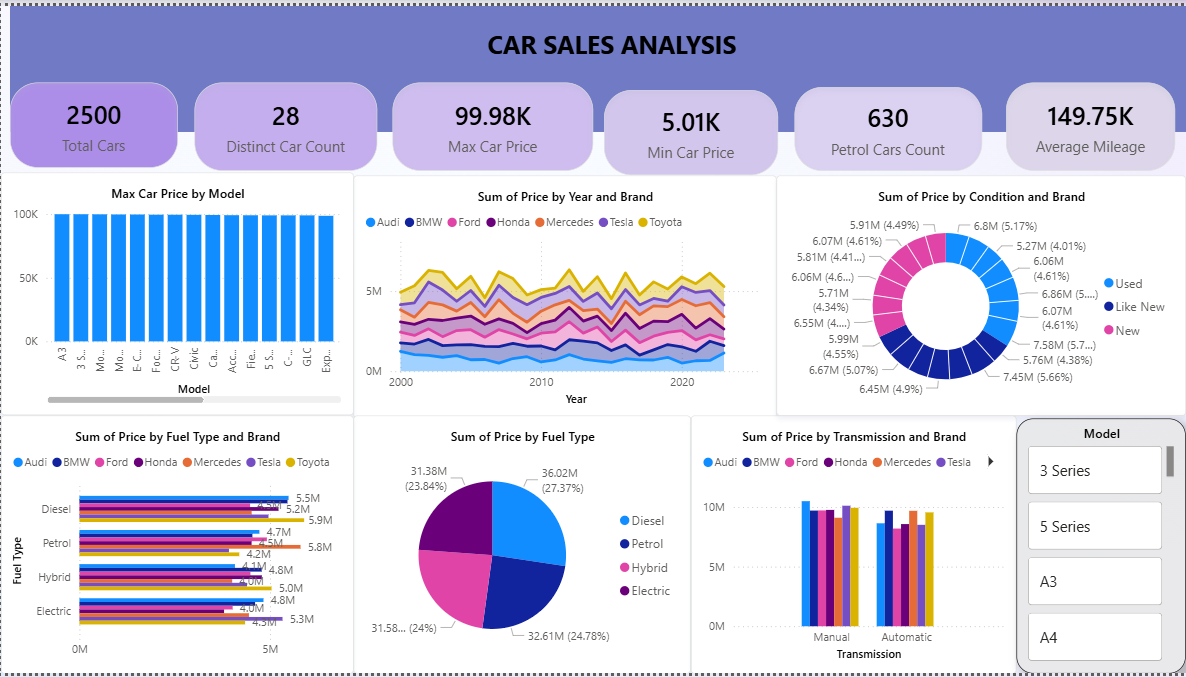

Layout of this report page (visuals, bound fields, positions):
{"tool":"powerbi","page":{"name":"Page 8","canvas":[1280,720],"ordinal":7},"visuals":[{"type":"textbox","box":[9.4,0,1269.9,136.1],"z":0},{"type":"card","fields":{"Values":["car_price_prediction_.Total Cars"]},"box":[9.7,82.6,181.4,92.3],"z":1000},{"type":"card","fields":{"Values":["car_price_prediction_.Distinct Car Count"]},"box":[208.9,82.6,197.5,95.5],"z":2000},{"type":"card","fields":{"Values":["car_price_prediction_.Max Car Price"]},"box":[422.6,82.6,217,95.5],"z":3000},{"type":"card","fields":{"Values":["car_price_prediction_.MIN Car Price"]},"box":[650.9,90.7,187.8,92.3],"z":4000},{"type":"card","fields":{"Values":["car_price_prediction_.Average Mileage"]},"box":[1084.9,82.6,183,95.5],"z":5000},{"type":"stackedAreaChart","fields":{"Category":["car_price_prediction_.Year"],"Series":["car_price_prediction_.Brand"],"Y":["Sum(car_price_prediction_.Price)"]},"box":[380.5,183,456.6,262.3],"z":6000},{"type":"pieChart","fields":{"Category":["car_price_prediction_.Fuel Type"],"Y":["Sum(car_price_prediction_.Price)"]},"box":[380.5,442,364.3,278.5],"z":7000},{"type":"clusteredColumnChart","fields":{"Category":["car_price_prediction_.Model"],"Y":["car_price_prediction_.Max Car Price"]},"box":[0,179.7,380.5,262.3],"z":8000},{"type":"clusteredBarChart","fields":{"Category":["car_price_prediction_.Fuel Type"],"Series":["car_price_prediction_.Brand"],"Y":["Sum(car_price_prediction_.Price)"]},"box":[0,442,380.5,278.5],"z":9000},{"type":"clusteredColumnChart","fields":{"Y":["Sum(car_price_prediction_.Price)"],"Category":["car_price_prediction_.Transmission"],"Series":["car_price_prediction_.Brand"]},"box":[744.8,442,351.4,278.5],"z":10000},{"type":"donutChart","fields":{"Category":["car_price_prediction_.Condition"],"Series":["car_price_prediction_.Brand"],"Y":["Sum(car_price_prediction_.Price)"]},"box":[837.1,183,442,259.1],"z":11000},{"type":"card","fields":{"Values":["car_price_prediction_.Petrol Cars Count"]},"box":[856.6,87.4,202.4,90.7],"z":12000},{"type":"advancedSlicerVisual","fields":{"Values":["car_price_prediction_.Model"]},"box":[1096.2,445.3,183,275.3],"z":13000}]}

Visuals, with their boxes in screenshot pixels (x1, y1, x2, y2), scaled from the page's 1280x720 canvas onto the 1186x677 screenshot:
textbox: (x1=9, y1=0, x2=1185, y2=128)
card - car_price_prediction_.Total Cars: (x1=9, y1=78, x2=177, y2=164)
card - car_price_prediction_.Distinct Car Count: (x1=194, y1=78, x2=377, y2=167)
card - car_price_prediction_.Max Car Price: (x1=392, y1=78, x2=593, y2=167)
card - car_price_prediction_.MIN Car Price: (x1=603, y1=85, x2=777, y2=172)
card - car_price_prediction_.Average Mileage: (x1=1005, y1=78, x2=1175, y2=167)
stackedAreaChart - car_price_prediction_.Year x car_price_prediction_.Brand: (x1=353, y1=172, x2=776, y2=419)
pieChart - car_price_prediction_.Fuel Type x Sum(car_price_prediction_.Price): (x1=353, y1=416, x2=690, y2=676)
clusteredColumnChart - car_price_prediction_.Model x car_price_prediction_.Max Car Price: (x1=0, y1=169, x2=353, y2=416)
clusteredBarChart - car_price_prediction_.Fuel Type x car_price_prediction_.Brand: (x1=0, y1=416, x2=353, y2=676)
clusteredColumnChart - Sum(car_price_prediction_.Price) x car_price_prediction_.Transmission: (x1=690, y1=416, x2=1016, y2=676)
donutChart - car_price_prediction_.Condition x car_price_prediction_.Brand: (x1=776, y1=172, x2=1185, y2=416)
card - car_price_prediction_.Petrol Cars Count: (x1=794, y1=82, x2=981, y2=167)
advancedSlicerVisual - car_price_prediction_.Model: (x1=1016, y1=419, x2=1185, y2=676)
